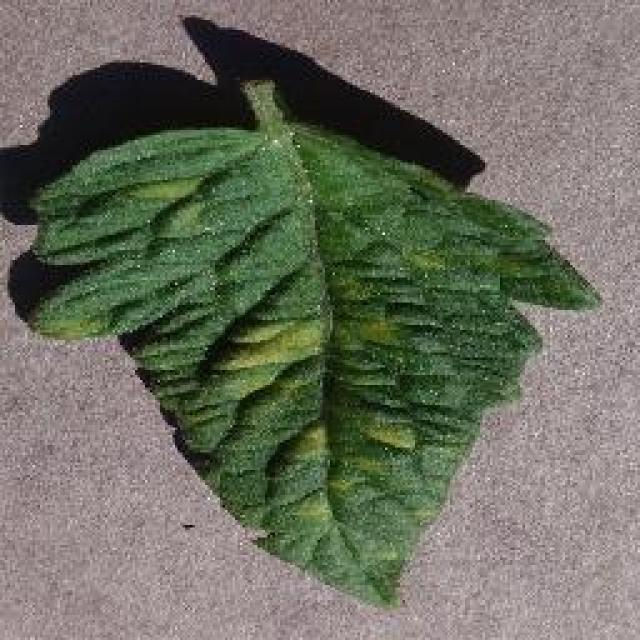Tomato___Leaf_Mold: (32, 80, 598, 605)
